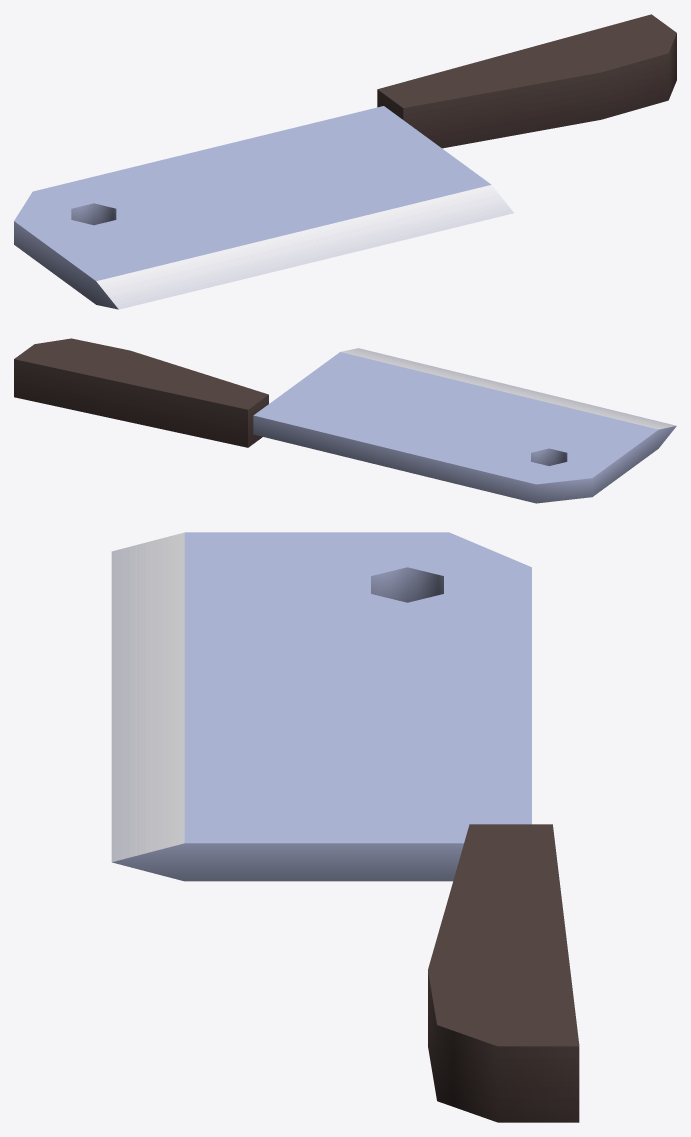
Rendered from cooking-knife-chopping.obj.
3 renders of one model, top to bottom at view 1: azimuth 30°, elevation 25°; view 2: azimuth 150°, elevation 25°; view 3: azimuth 270°, elevation 25°, orthographic. The views are drawn at different scales.
Parts seen in each view (by area): view 1: cooking-knife-chopping; view 2: cooking-knife-chopping; view 3: cooking-knife-chopping.
Part boxes in pixels (x1,y1,x2,y2): cooking-knife-chopping: (14,14,676,309); cooking-knife-chopping: (14,338,676,503); cooking-knife-chopping: (111,532,579,1122).
Size of the model in its own units: 0.6 by 0.04 by 0.2227.
1 material, 1 textured.
